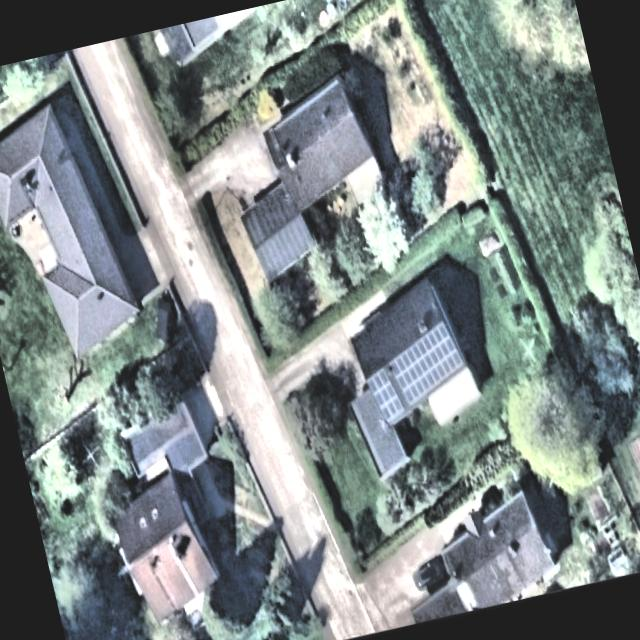roof_pv: (386, 319, 470, 406), (363, 364, 408, 429)
